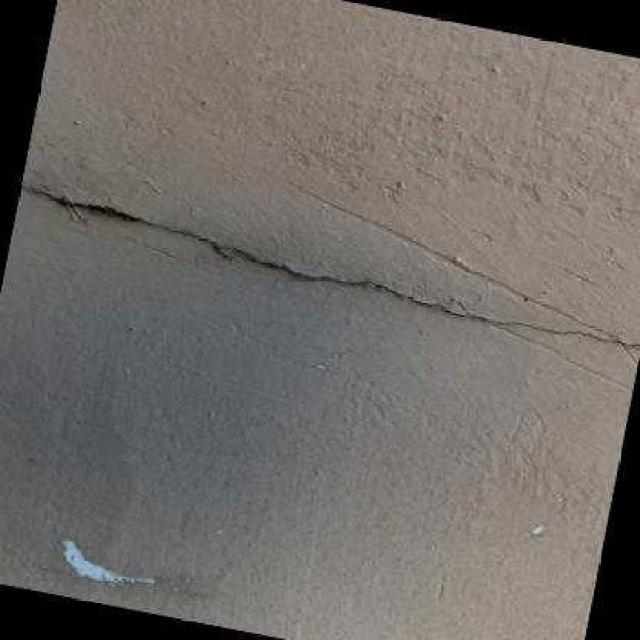D00: (21, 184, 640, 346)
